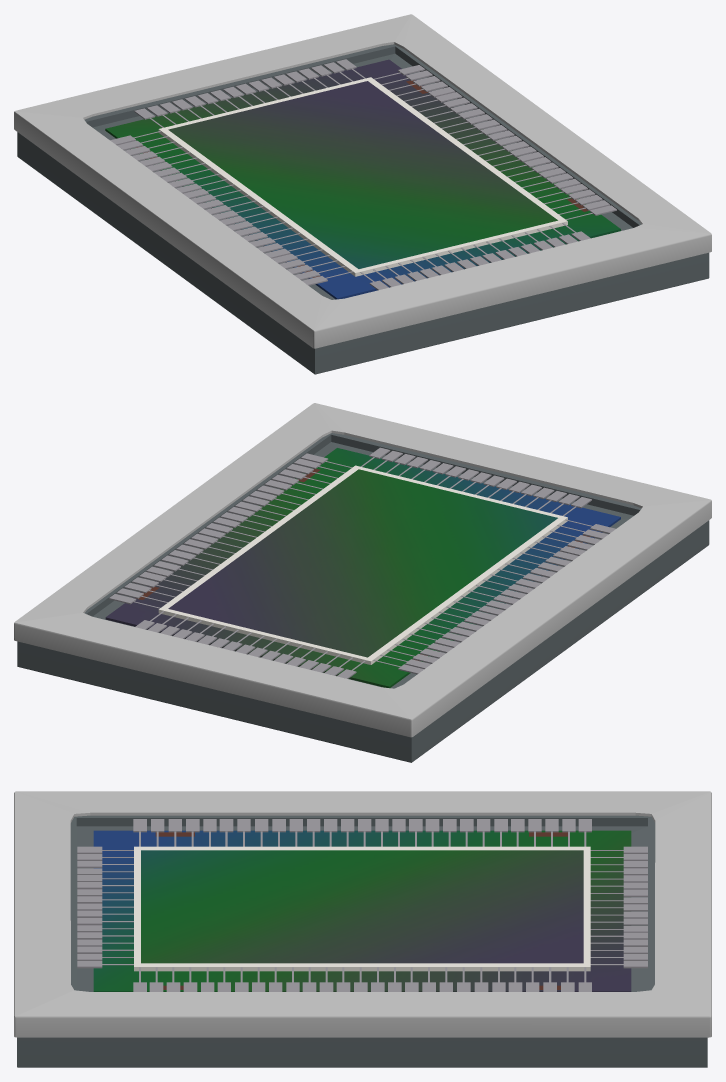
File: Image sensor.fbx
3 renders of one model, top to bottom at view 1: azimuth 30°, elevation 25°; view 2: azimuth 150°, elevation 25°; view 3: azimuth 270°, elevation 25°, orthographic. The views are drawn at different scales.
Parts seen in each view (by area): view 1: image_sensor; view 2: image_sensor; view 3: image_sensor.
Part boxes in pixels (x1,y1,x2,y2): image_sensor: (14, 14, 711, 374); image_sensor: (14, 403, 711, 762); image_sensor: (14, 791, 711, 1067).
Size of the model in its own units: 0.9833 by 0.1098 by 1.28.
